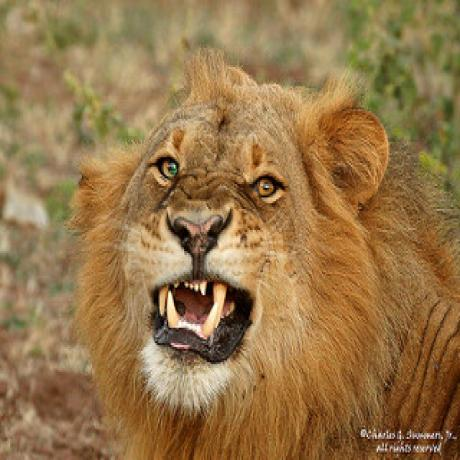Lion: (75, 50, 460, 460)
